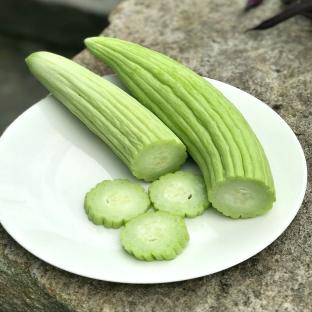Cucumber: (85, 37, 275, 218), (26, 52, 186, 181), (120, 211, 189, 261), (84, 179, 150, 228), (149, 171, 209, 218)
